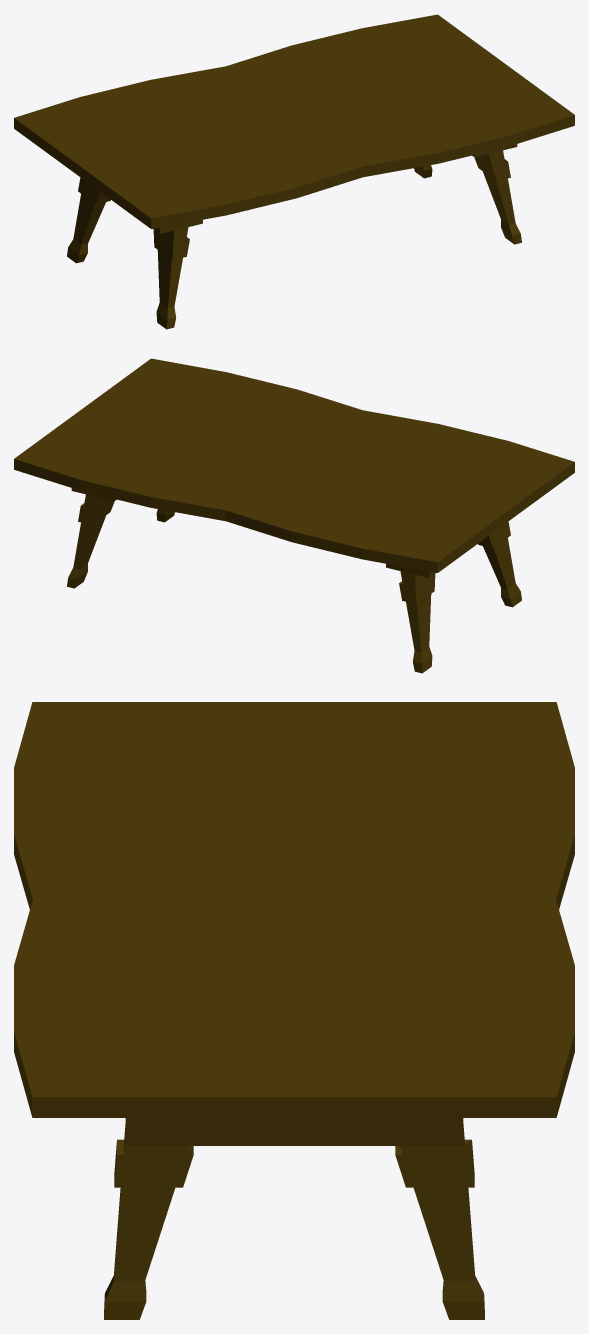
File: table.fbx
The picture shows the model from 3 angles, top to bottom: view 1: azimuth 30°, elevation 25°; view 2: azimuth 150°, elevation 25°; view 3: azimuth 270°, elevation 25°; orthographic projection. The views are drawn at different scales.
Visible parts, largest first — view 1: table; view 2: table; view 3: table.
Boxes of the visible parts, x1,y1,x2,y2 form: table: (14,14,574,329); table: (14,358,574,673); table: (14,702,574,1319).
Bounding box in the file's own units: 250 × 75.1 × 150.
